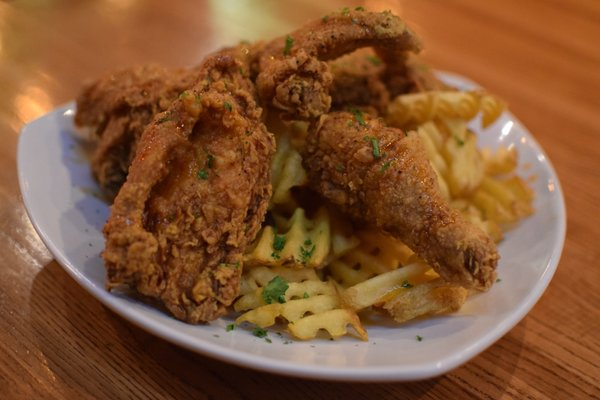curry: (15, 1, 598, 391)
